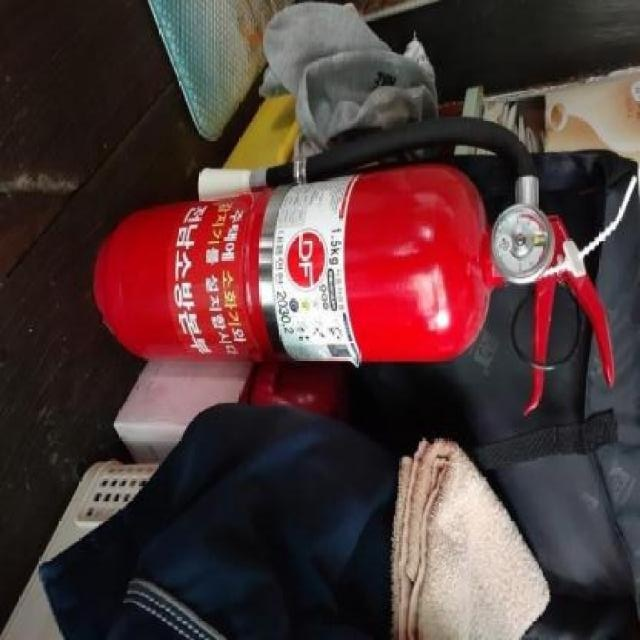fire extinguisher: (93, 118, 615, 418)
